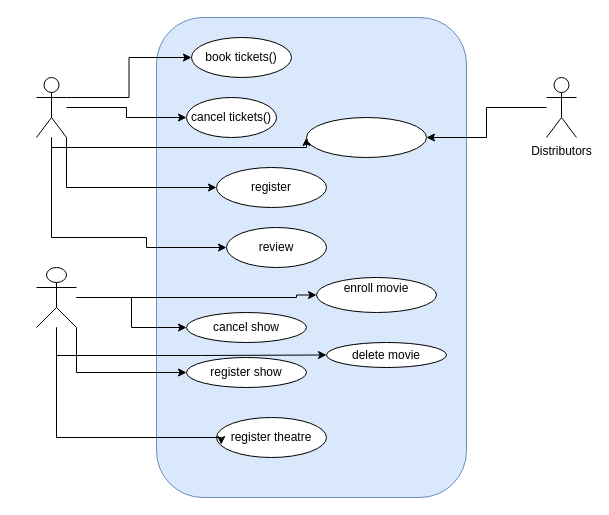
Some shapes in this 609 by 515 pixel diagram are drawn without their labels. Each missing label, with the box of its shape:
find theatres: (306, 116, 426, 158)
theatre owners: (36, 266, 76, 328)
user: (36, 76, 66, 138)
